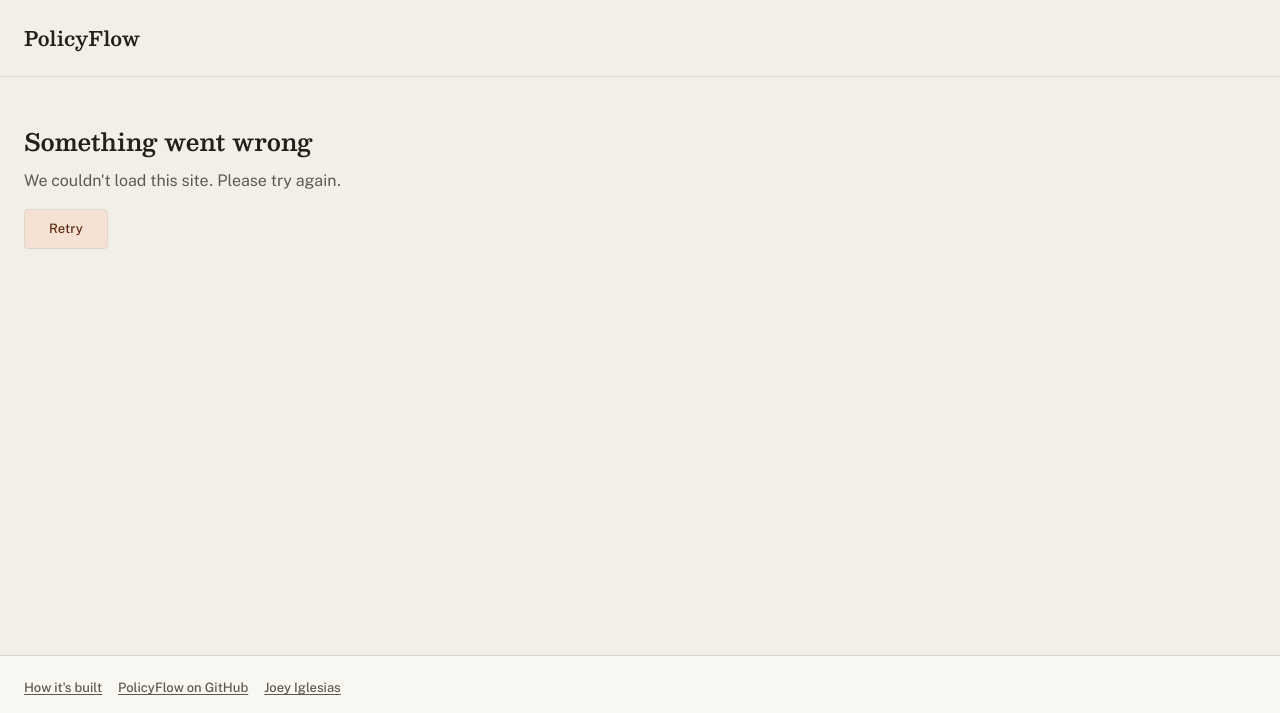
Test case: Shopper site robust states › shows an error and retries the fetch when listTenants rejects
Expected: the element with id "shopper-error" is shown, [24, 121, 341, 249]
Click the button "Retry" at (66, 229), box [24, 209, 108, 249]
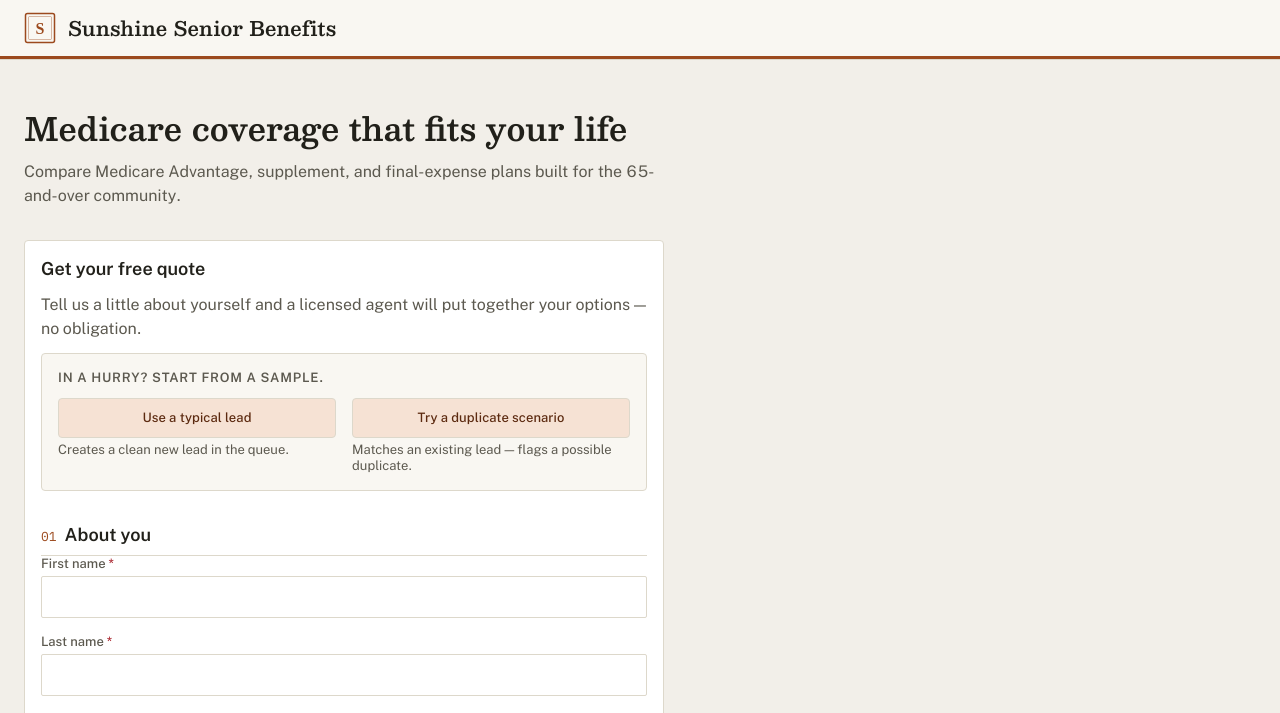
Now the text with id "shopper-masthead-wordmark" reads "Sunshine Senior Benefits", box [68, 11, 336, 45]
